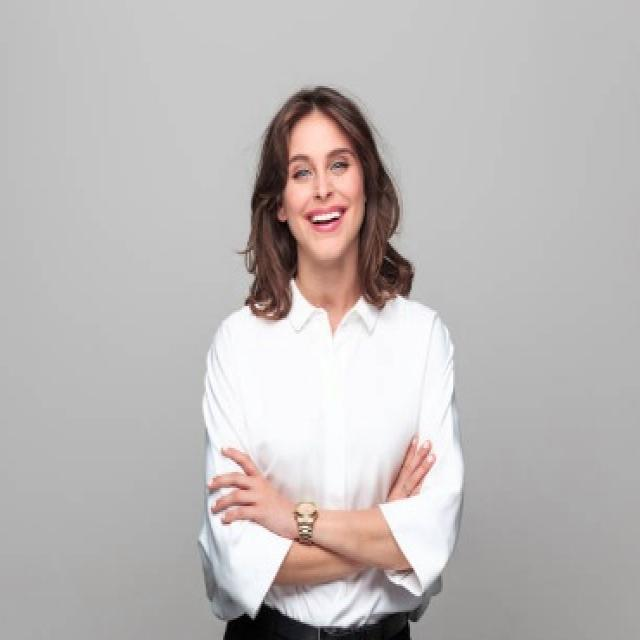adult: (183, 76, 467, 635)
